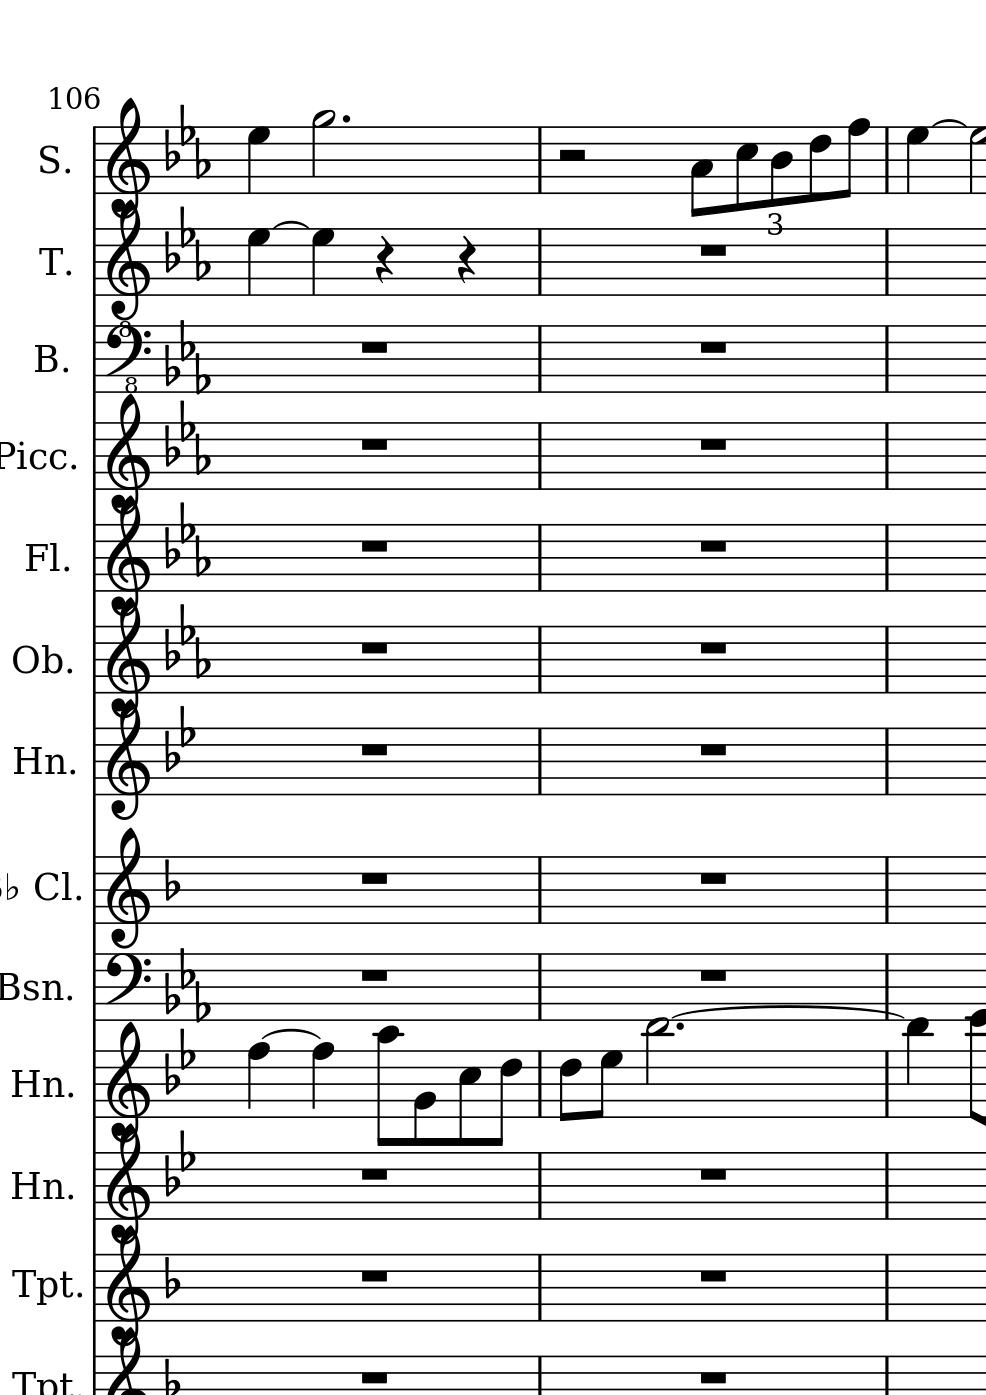0: (64, 85, 81, 113)
1: (48, 84, 63, 113)
2_11: (643, 1014, 673, 1120)
2_7: (966, 124, 986, 195)
2_9: (309, 108, 335, 195)
3: (764, 211, 785, 239)
4_11: (902, 1015, 934, 1117)
4_7: (308, 227, 335, 298), (245, 125, 271, 196), (904, 125, 929, 196), (245, 227, 271, 297)
4_8: (311, 1042, 335, 1121), (246, 1042, 271, 1120)
6: (81, 84, 101, 113)
8_10: (372, 1024, 403, 1150)
8_2: (411, 1049, 436, 1148)
8_3: (688, 124, 713, 218)
8_4: (769, 125, 792, 208)
8_5: (455, 1048, 481, 1148), (733, 124, 757, 212)
8_6: (491, 1048, 523, 1145), (806, 124, 831, 203), (557, 1049, 581, 1123)
8_7: (591, 1049, 622, 1119)
8_8: (837, 117, 871, 200)
B_F: (162, 1027, 197, 1095), (162, 706, 197, 773), (163, 1130, 196, 1198)
Bsn: (1, 971, 64, 1003)
Cl: (32, 867, 73, 903)
E_F: (160, 397, 213, 477), (161, 318, 213, 394), (161, 946, 213, 1021), (162, 102, 212, 179), (161, 503, 212, 577), (161, 604, 212, 679), (162, 206, 212, 282)
Fl: (21, 539, 60, 575)
Flat: (161, 857, 181, 902), (162, 1255, 180, 1301), (162, 1356, 180, 1395)
Gclef: (104, 95, 150, 197)
Hn: (12, 742, 65, 779), (10, 1168, 64, 1203), (10, 1066, 63, 1101)
Ob: (10, 640, 62, 675)
Picc: (1, 440, 68, 475)
Rests1: (695, 534, 730, 557), (694, 335, 731, 356), (355, 1163, 393, 1185), (356, 1264, 392, 1286), (356, 534, 391, 556), (356, 738, 391, 760), (696, 738, 730, 760), (356, 433, 392, 455), (695, 636, 730, 657), (356, 963, 392, 984), (695, 1265, 730, 1286), (695, 964, 731, 984), (696, 433, 730, 455), (356, 636, 391, 657), (356, 867, 391, 888), (356, 1366, 391, 1388), (695, 239, 730, 259), (697, 867, 730, 888), (695, 1164, 731, 1184), (696, 1367, 730, 1388), (356, 337, 392, 356)
Rests2: (554, 144, 590, 167)
Rests4: (455, 234, 477, 286), (372, 234, 395, 285)
Single_barline: (877, 728, 896, 796), (530, 422, 548, 490), (530, 525, 548, 592), (530, 627, 548, 693), (530, 729, 548, 795), (878, 228, 895, 298), (878, 324, 895, 394), (878, 422, 895, 490), (878, 524, 895, 592), (878, 627, 895, 695), (878, 954, 895, 1019), (880, 126, 896, 195), (878, 856, 894, 925), (878, 1254, 894, 1323), (531, 127, 547, 194), (531, 326, 547, 393), (532, 1051, 548, 1117), (879, 1051, 895, 1116), (532, 856, 547, 925), (532, 1254, 547, 1322), (86, 324, 101, 392), (88, 857, 102, 924), (532, 1153, 547, 1220), (879, 1153, 894, 1220), (88, 1255, 102, 1322), (532, 954, 547, 1020), (88, 524, 101, 592), (88, 127, 101, 194), (532, 228, 546, 296), (88, 423, 101, 490), (88, 1153, 101, 1220), (88, 229, 101, 296), (88, 627, 101, 693), (88, 730, 101, 796), (88, 955, 101, 1021), (88, 1051, 101, 1117), (531, 1357, 548, 1395), (878, 1357, 895, 1395), (86, 1356, 102, 1395)
Slur: (261, 1029, 320, 1042), (272, 219, 311, 229), (931, 118, 968, 129)
Tpt: (6, 1267, 73, 1304)
dot: (673, 1021, 685, 1035), (339, 112, 351, 125)
